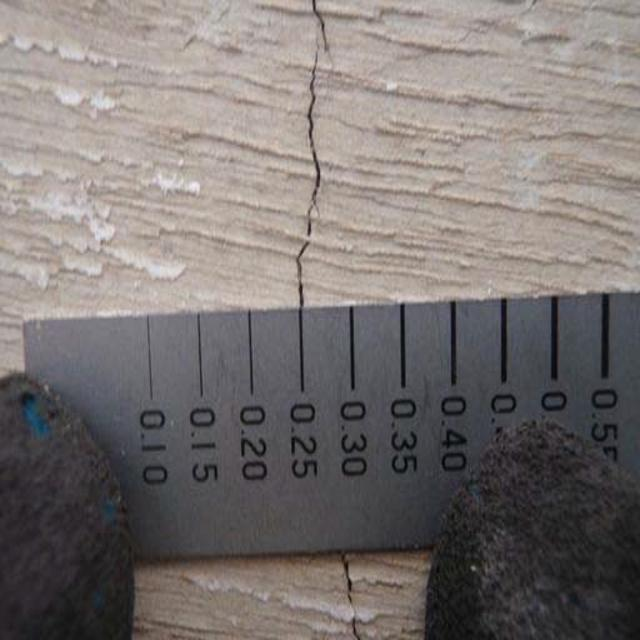crack: (277, 0, 339, 307), (320, 561, 376, 640)
